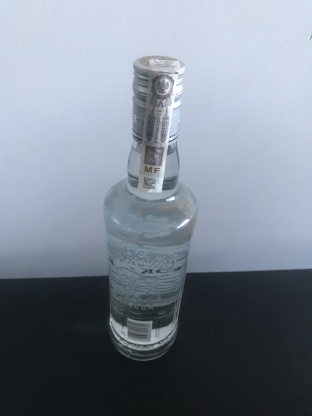nakretka: (128, 51, 186, 148)
